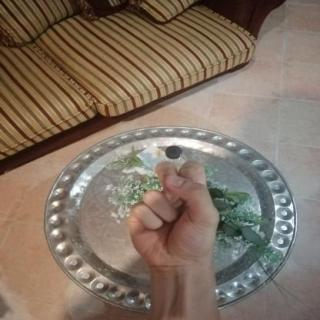QAAF: (120, 156, 226, 272)
